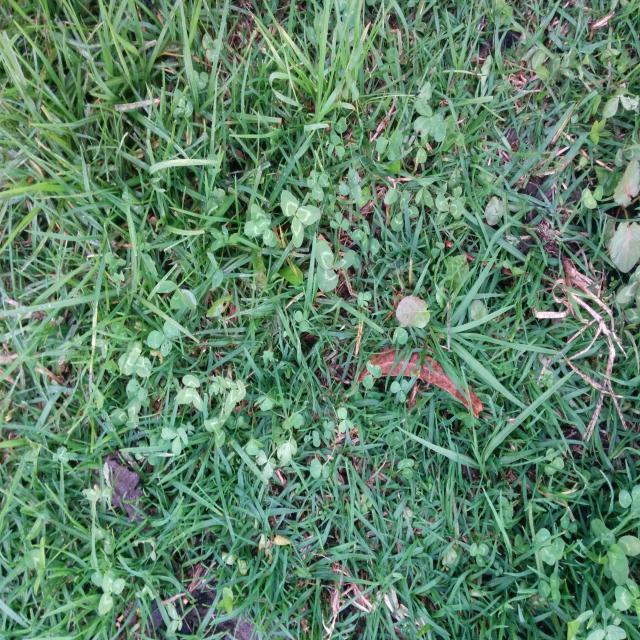Four Leaf Clover: (244, 204, 276, 247)
